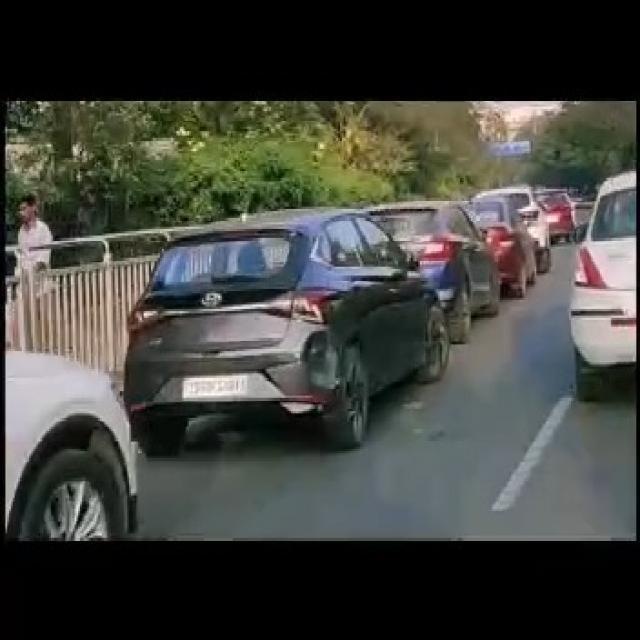Car: (121, 209, 451, 451), (2, 348, 139, 542), (568, 169, 638, 401)
